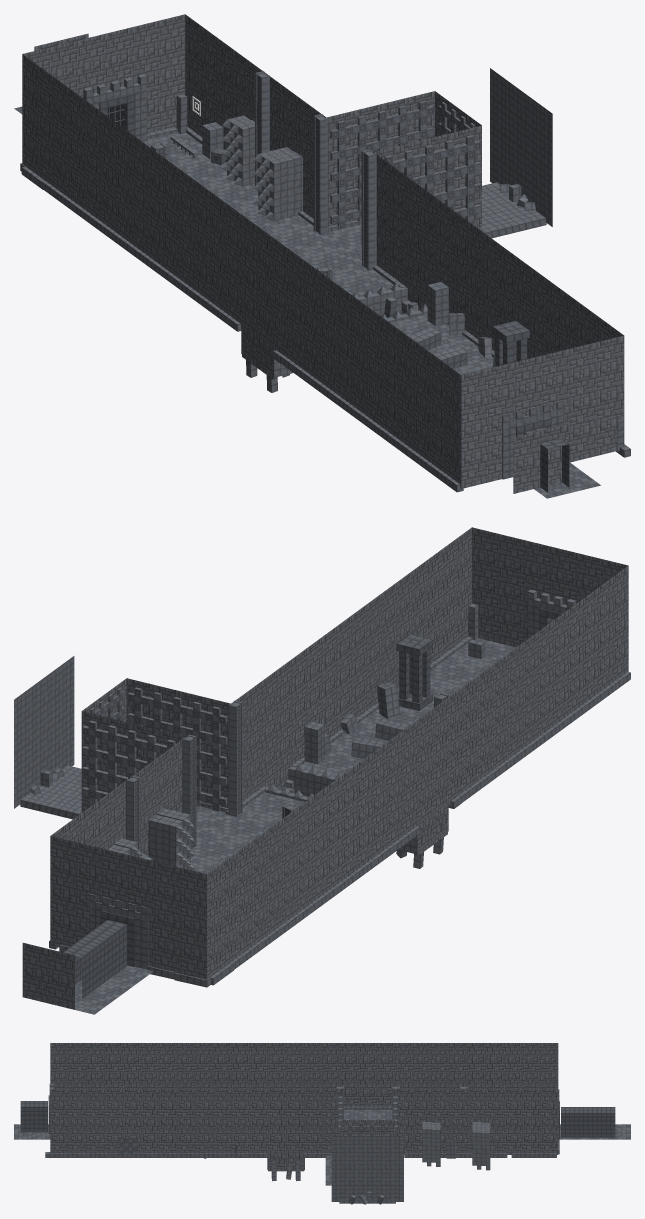
The model's file is onemesh.fbx.
3 renders of one model, top to bottom at view 1: azimuth 30°, elevation 25°; view 2: azimuth 150°, elevation 25°; view 3: azimuth 270°, elevation 25°, orthographic. The views are drawn at different scales.
Parts seen in each view (by area): view 1: Castle_Ground___Bright_8x8__2_; view 2: Castle_Ground___Bright_8x8__2_; view 3: Castle_Ground___Bright_8x8__2_.
Boxes of the visible parts, x1=… form: Castle_Ground___Bright_8x8__2_: x1=14, y1=14, x2=630, y2=498; Castle_Ground___Bright_8x8__2_: x1=14, y1=527, x2=630, y2=1014; Castle_Ground___Bright_8x8__2_: x1=14, y1=1043, x2=630, y2=1204.
Size of the model in its own units: 3804 by 1711 by 10200.
